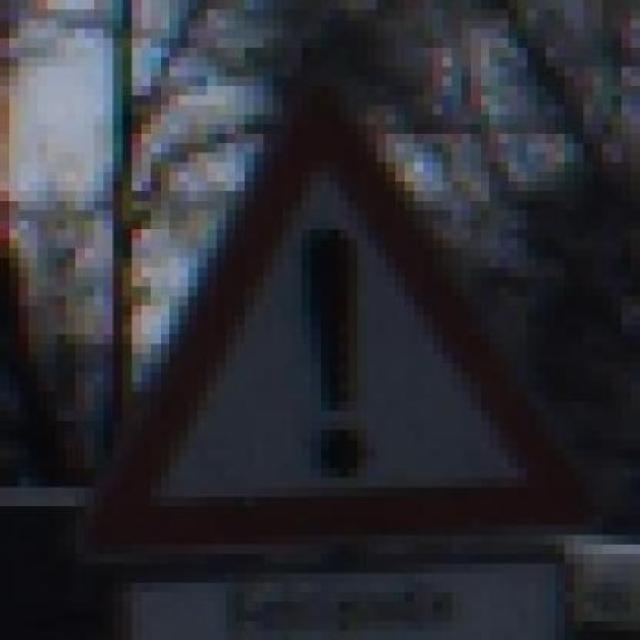Attention Please-: (47, 105, 611, 564)
